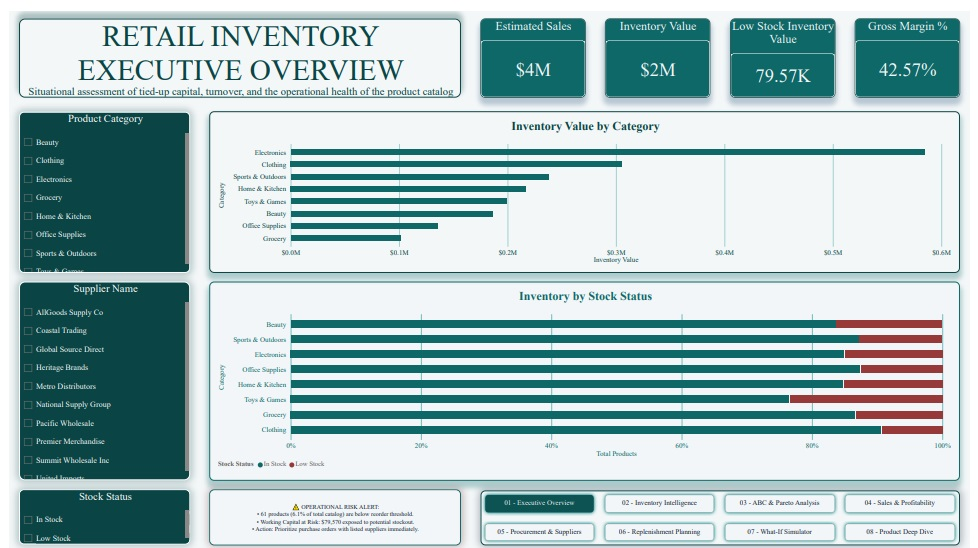

What the dashboard file says about the page in this screenshot:
{"tool":"powerbi","page":{"name":"01 - Executive Overview","canvas":[1920,1080],"ordinal":0},"visuals":[{"type":"cardVisual","title":"Low Stock Inventory Value","fields":{"Data":["_Measure.Capital at Risk"]},"box":[1440.6,15,210,158],"z":0},{"type":"cardVisual","title":"Gross Margin %","fields":{"Data":["_Measure.Estimated Gross Margin %"]},"box":[1690,15,210,158],"z":1000},{"type":"cardVisual","title":"Estimated Sales","fields":{"Data":["_Measure.Estimated Sales"]},"box":[941.9,15,210,157.5],"z":2000},{"type":"cardVisual","title":"Inventory Value","fields":{"Data":["_Measure.Inventory Value"]},"box":[1191.2,15,210,158],"z":3000},{"type":"textbox","title":"RETAIL INVENTORY  EXECUTIVE OVERVIEW","box":[20,15,882.5,157.5],"z":4000},{"type":"slicer","title":"Product Category","fields":{"Values":["DimCategory.Category"]},"box":[20,201,342,322],"z":5000},{"type":"slicer","title":"Supplier Name","fields":{"Values":["DimSupplier.Supplier Name"]},"box":[20,540,342,397],"z":6000},{"type":"slicer","title":"Stock Status","fields":{"Values":["FactInventory.Stock Status"]},"box":[20,955,342,110],"z":7000},{"type":"hundredPercentStackedBarChart","title":"Inventory by Stock Status","fields":{"Category":["DimCategory.Category"],"Series":["FactInventory.Stock Status"],"Y":["_Measure.Total Products"]},"box":[400,540,1500,398.3],"z":8000},{"type":"clusteredBarChart","title":"Inventory Value by Category","fields":{"Category":["DimCategory.Category"],"Y":["_Measure.Inventory Value"]},"box":[400,200,1500,323.3],"z":9000},{"type":"cardVisual","fields":{"Data":["_Measure.Executive Insight Text"]},"box":[400,955,503,112],"z":10000},{"type":"pageNavigator","box":[942,957,958,110],"z":11000}]}

Visuals, with their boxes in screenshot pixels (x1, y1, x2, y2), scaled from the page's 1920x1080 canvas onto the 978x548 screenshot:
"Low Stock Inventory Value" cardVisual: {"left": 734, "top": 8, "right": 841, "bottom": 88}
"Gross Margin %" cardVisual: {"left": 861, "top": 8, "right": 968, "bottom": 88}
"Estimated Sales" cardVisual: {"left": 480, "top": 8, "right": 587, "bottom": 88}
"Inventory Value" cardVisual: {"left": 607, "top": 8, "right": 714, "bottom": 88}
"RETAIL INVENTORY  EXECUTIVE OVERVIEW" textbox: {"left": 10, "top": 8, "right": 460, "bottom": 88}
"Product Category" slicer: {"left": 10, "top": 102, "right": 184, "bottom": 265}
"Supplier Name" slicer: {"left": 10, "top": 274, "right": 184, "bottom": 475}
"Stock Status" slicer: {"left": 10, "top": 485, "right": 184, "bottom": 540}
"Inventory by Stock Status" hundredPercentStackedBarChart: {"left": 204, "top": 274, "right": 968, "bottom": 476}
"Inventory Value by Category" clusteredBarChart: {"left": 204, "top": 101, "right": 968, "bottom": 266}
cardVisual - _Measure.Executive Insight Text: {"left": 204, "top": 485, "right": 460, "bottom": 541}
pageNavigator: {"left": 480, "top": 486, "right": 968, "bottom": 541}
